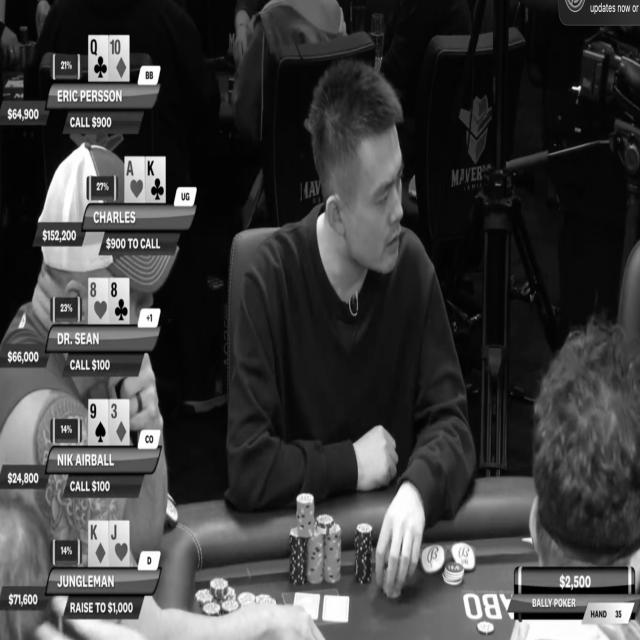10D: (109, 36, 129, 81)
3D: (109, 399, 129, 446)
4H: (125, 157, 145, 203)
8C: (110, 278, 129, 323)
8H: (88, 278, 109, 324)
9S: (88, 399, 108, 445)
JH: (109, 521, 129, 567)
KC: (145, 156, 165, 203)
KD: (89, 520, 109, 566)
QC: (89, 35, 108, 81)
